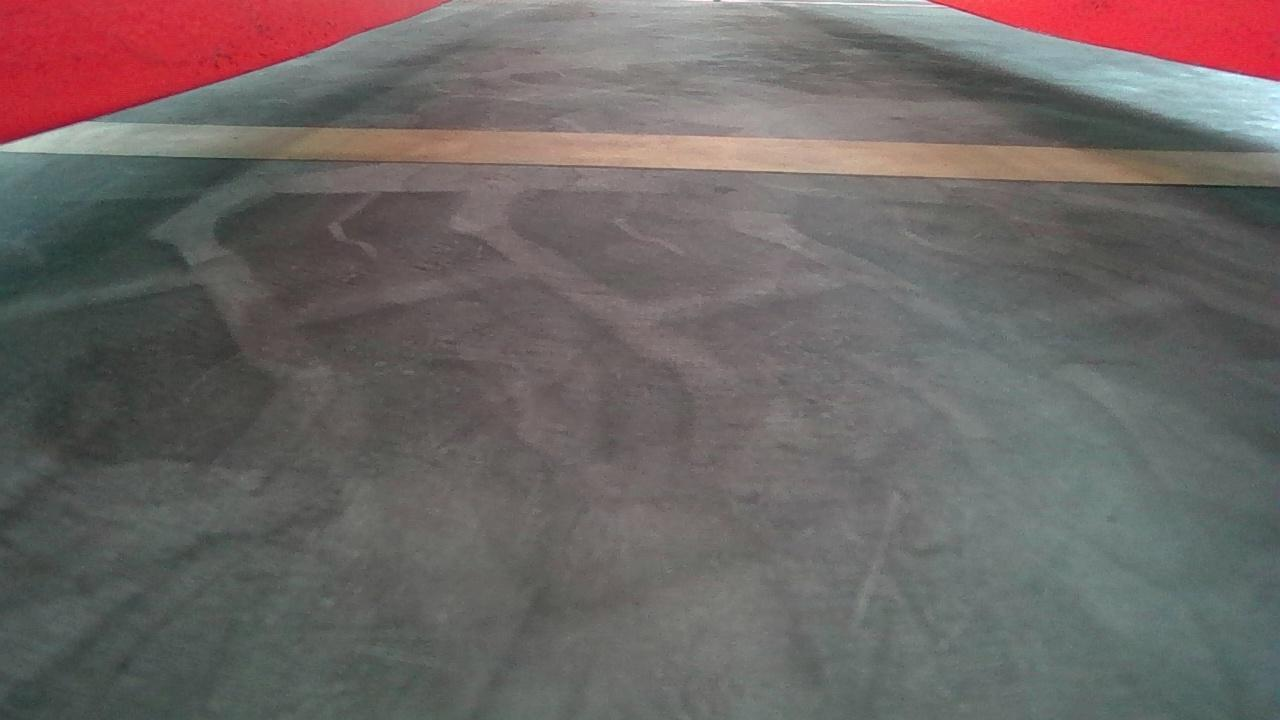yellow_line: (3, 118, 1280, 183)
